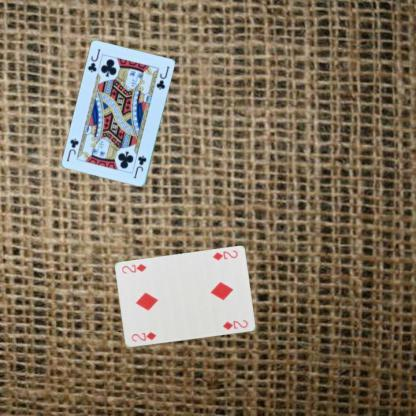2d: (128, 329, 158, 344), (210, 248, 239, 262)
Jc: (86, 46, 102, 74), (131, 154, 148, 180)
